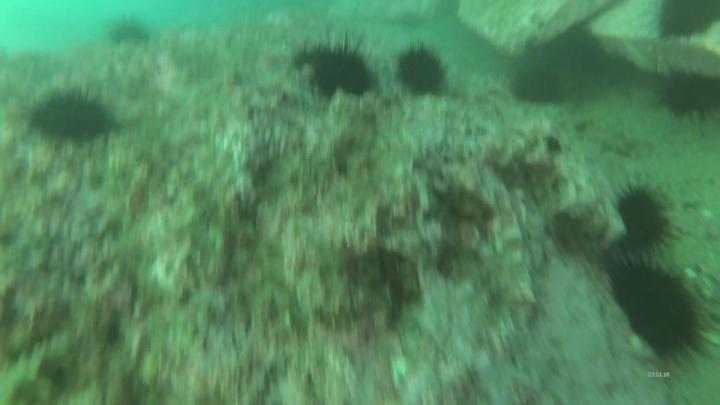echinus: (605, 251, 716, 372), (607, 176, 685, 262), (23, 85, 116, 145), (309, 27, 379, 99), (387, 36, 452, 99), (654, 66, 720, 127), (653, 2, 720, 45), (106, 13, 155, 51)
